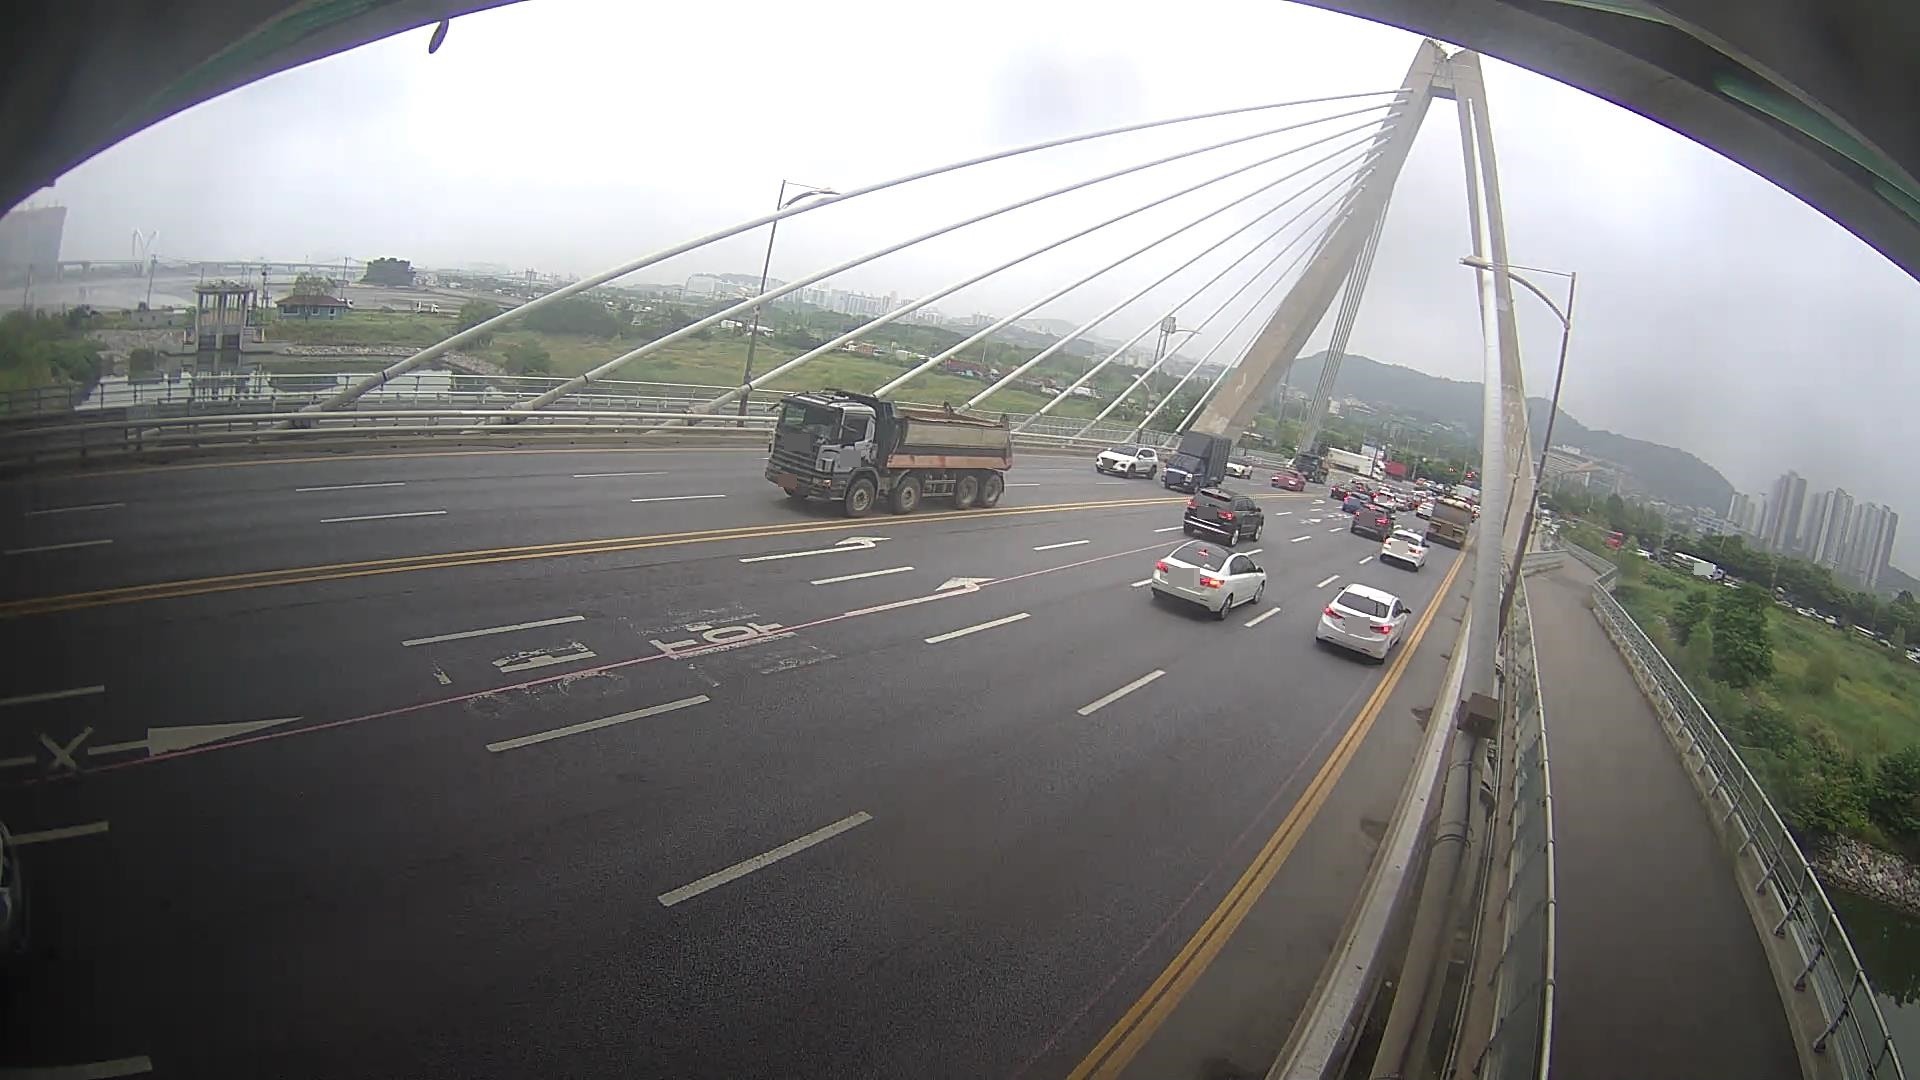정상차량: (766, 388, 1013, 519)
